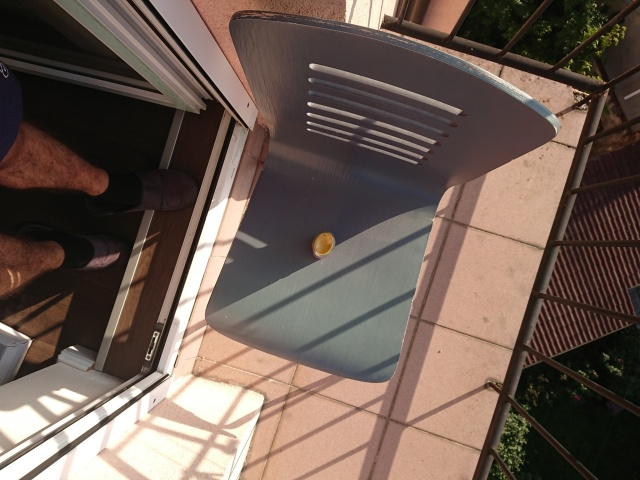Kotanyi Curry Spices Mix 70g: (310, 230, 336, 261)
